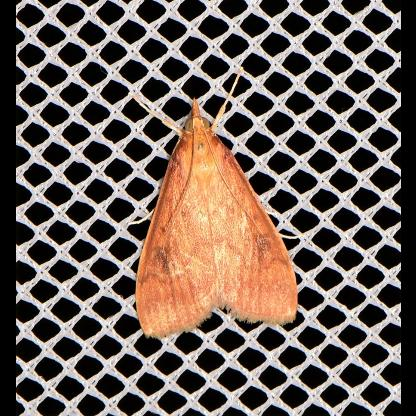Asian Corn Borer Moth: (124, 63, 310, 341)
